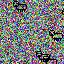sheep: (12, 1, 27, 12), (49, 30, 63, 40)
